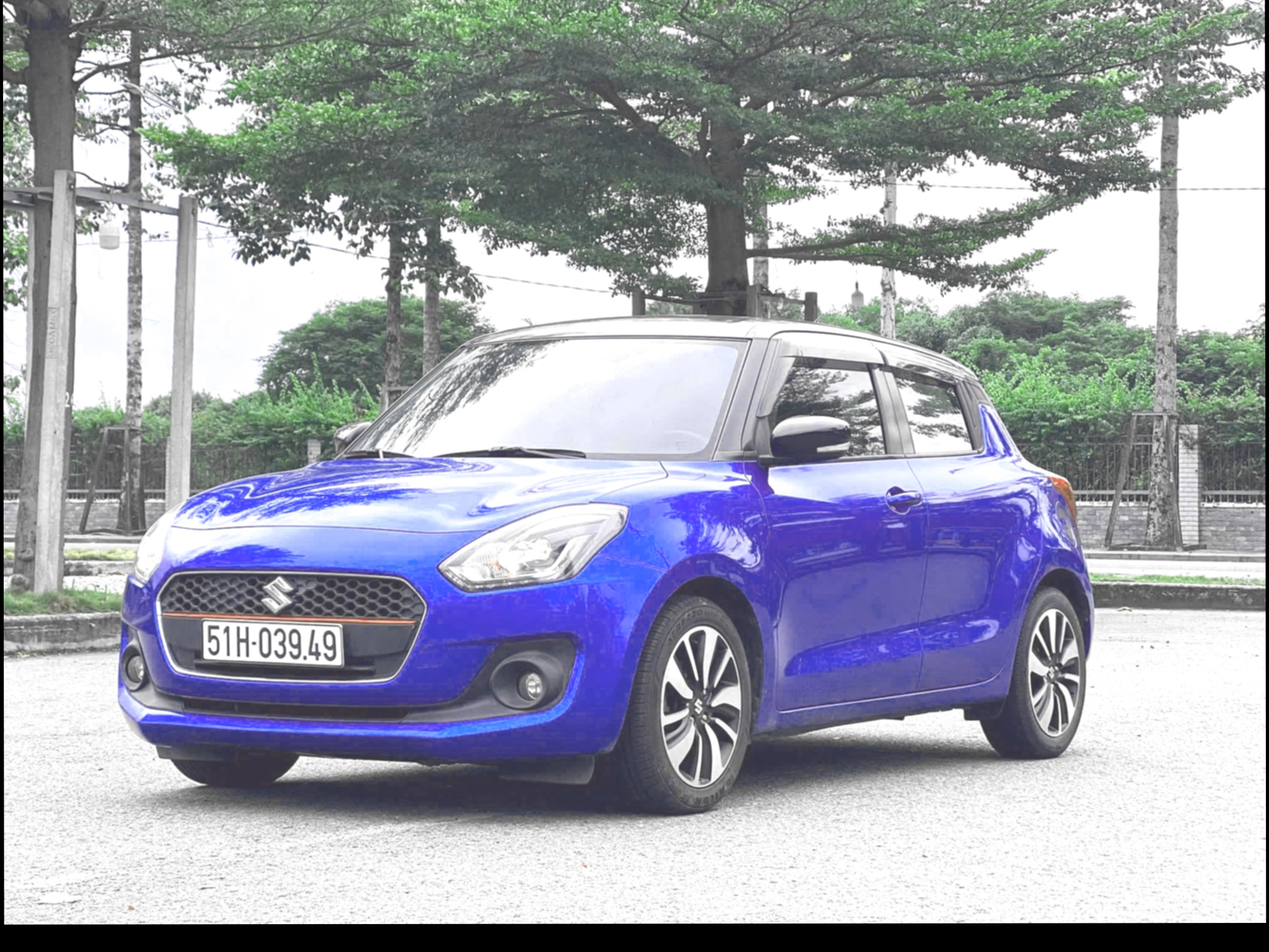Bien-so: (234, 663, 372, 713)
